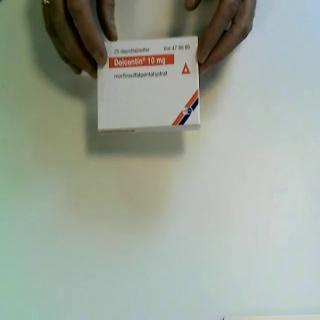dolcontin10mg: (96, 34, 202, 138)
